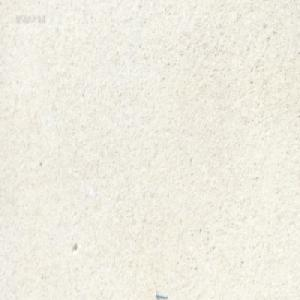Nail: (154, 289, 167, 297)
